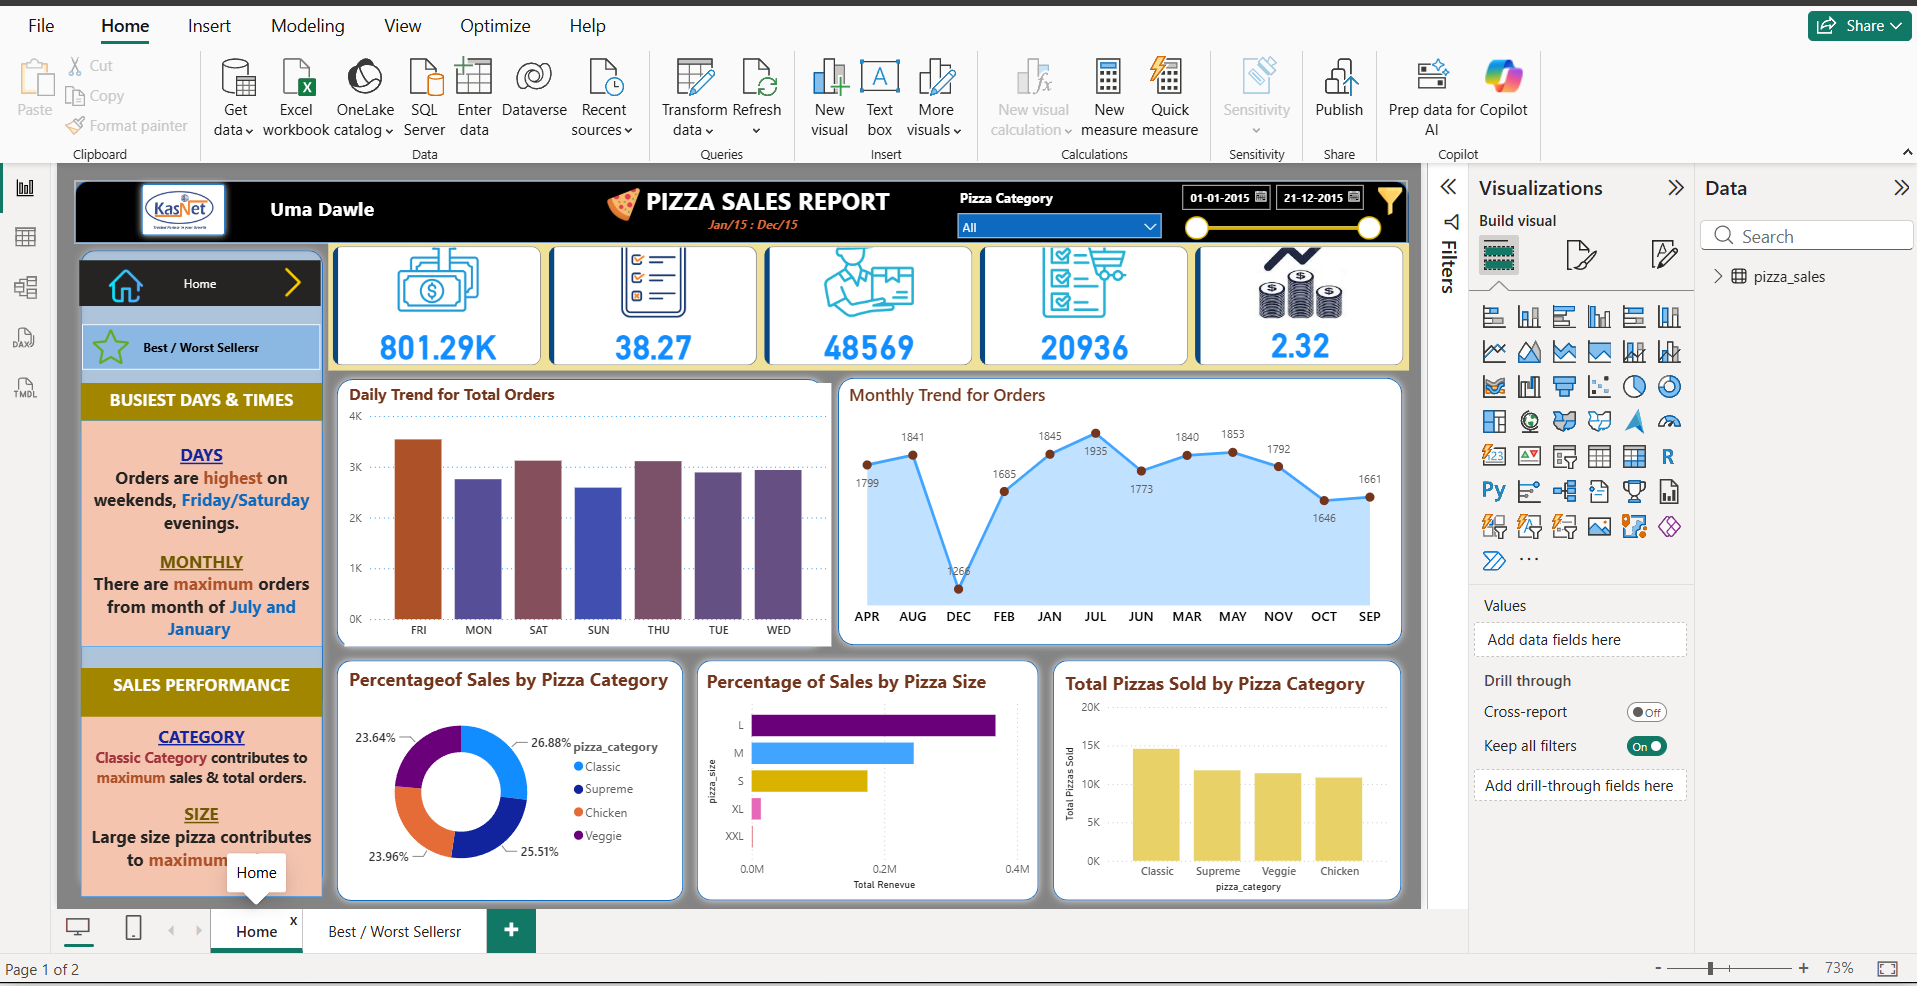

What the dashboard file says about the page in this screenshot:
{"tool":"powerbi","page":{"name":"Home","canvas":[1500,820],"ordinal":0},"visuals":[{"type":"shape","box":[299,228.9,551.9,310.1],"z":0},{"type":"cardVisual","fields":{"Data":["pizza_sales.Total Renevue","pizza_sales.Avg Order Vavle","pizza_sales.Total Pizzas Sold","pizza_sales.Total Orders","pizza_sales.Avg Pizzas Per Order"]},"box":[298.7,86.7,1187.6,142],"z":1000},{"type":"shape","box":[19,19,1466.8,68.8],"z":2000},{"type":"textbox","box":[580.9,18.4,400.2,49.8],"z":3000},{"type":"textbox","box":[710,53.5,271.1,51.6],"z":4000},{"type":"image","box":[574.4,21.4,97.3,47.5],"z":5000},{"type":"columnChart","title":"Daily Trend for Total Orders","fields":{"Category":["pizza_sales.Order Day"],"Y":["pizza_sales.Total Orders"]},"box":[315.6,241.8,535.3,289.8],"z":6000},{"type":"shape","box":[850.1,228.7,636.2,309.8],"z":7000},{"type":"areaChart","title":"Monthly Trend for Orders","fields":{"Category":["pizza_sales.Order Month"],"Y":["pizza_sales.Total Orders"]},"box":[866.3,242.1,602.8,277.7],"z":8000},{"type":"shape","box":[299,539,396.8,280.6],"z":9000},{"type":"shape","box":[695.4,538.8,391.6,280.1],"z":10000},{"type":"shape","box":[1087,538.8,398.7,280.1],"z":11000},{"type":"shape","box":[17.5,87.5,282.5,717.5],"z":12000},{"type":"donutChart","title":"Percentageof Sales by Pizza Category","fields":{"Category":["pizza_sales.pizza_category"],"Y":["pizza_sales.Total Renevue"]},"box":[315.6,553.7,365.5,249.2],"z":13000},{"type":"barChart","title":"Percentage of Sales by Pizza Size","fields":{"Category":["pizza_sales.pizza_size"],"Y":["pizza_sales.Total Renevue"]},"box":[708.8,555.6,365.5,249.2],"z":14000},{"type":"clusteredColumnChart","title":"Total Pizzas Sold by Pizza Category","fields":{"Category":["pizza_sales.pizza_category"],"Y":["pizza_sales.Total Pizzas Sold"]},"box":[1103.6,557.8,365.5,249.2],"z":15000},{"type":"textbox","box":[25.8,241.8,265.8,53.5],"z":16000},{"type":"textbox","box":[25.8,282.4,265.8,249.2],"z":17000},{"type":"textbox","box":[25.8,592.5,265.8,214.1],"z":18000},{"type":"textbox","box":[25.8,555.6,265.8,53.5],"z":19000},{"type":"slicer","fields":{"Values":["pizza_sales.pizza_category"]},"box":[980.2,23.7,244.5,59.3],"z":20000},{"type":"slicer","fields":{"Values":["pizza_sales.order_date"]},"box":[1224.7,14.2,244.5,109.2],"z":21000},{"type":"pageNavigator","box":[25,107.5,265,50],"z":22000},{"type":"pageNavigator","box":[27.5,177.5,262.5,50],"z":23000},{"type":"image","box":[230,110,60,42.5],"z":24000},{"type":"image","box":[52.5,110,47.5,50],"z":25000},{"type":"image","box":[35,172.5,50,57.5],"z":26000},{"type":"image","box":[1445,22.5,40,40],"z":27000},{"type":"shape","box":[85,15,107.5,72.5],"z":28000},{"type":"image","box":[92.5,17.5,85,67.5],"z":29000},{"type":"textbox","box":[230.1,30.8,231.9,52.5],"z":30000}]}

Visuals, with their boxes on the page's 1500x820 design canvas (x1, y1, x2, y2). These are canvas units, not pixel positions in the 1917x986 screenshot, which may show the page scaled, cropped or inside an application window:
shape: pyautogui.locateOnScreen(299, 229, 851, 539)
cardVisual - pizza_sales.Total Renevue x pizza_sales.Avg Order Vavle: pyautogui.locateOnScreen(299, 87, 1486, 229)
shape: pyautogui.locateOnScreen(19, 19, 1486, 88)
textbox: pyautogui.locateOnScreen(581, 18, 981, 68)
textbox: pyautogui.locateOnScreen(710, 54, 981, 105)
image: pyautogui.locateOnScreen(574, 21, 672, 69)
"Daily Trend for Total Orders" columnChart: pyautogui.locateOnScreen(316, 242, 851, 532)
shape: pyautogui.locateOnScreen(850, 229, 1486, 538)
"Monthly Trend for Orders" areaChart: pyautogui.locateOnScreen(866, 242, 1469, 520)
shape: pyautogui.locateOnScreen(299, 539, 696, 820)
shape: pyautogui.locateOnScreen(695, 539, 1087, 819)
shape: pyautogui.locateOnScreen(1087, 539, 1486, 819)
shape: pyautogui.locateOnScreen(18, 88, 300, 805)
"Percentageof Sales by Pizza Category" donutChart: pyautogui.locateOnScreen(316, 554, 681, 803)
"Percentage of Sales by Pizza Size" barChart: pyautogui.locateOnScreen(709, 556, 1074, 805)
"Total Pizzas Sold by Pizza Category" clusteredColumnChart: pyautogui.locateOnScreen(1104, 558, 1469, 807)
textbox: pyautogui.locateOnScreen(26, 242, 292, 295)
textbox: pyautogui.locateOnScreen(26, 282, 292, 532)
textbox: pyautogui.locateOnScreen(26, 592, 292, 807)
textbox: pyautogui.locateOnScreen(26, 556, 292, 609)
slicer - pizza_sales.pizza_category: pyautogui.locateOnScreen(980, 24, 1225, 83)
slicer - pizza_sales.order_date: pyautogui.locateOnScreen(1225, 14, 1469, 123)
pageNavigator: pyautogui.locateOnScreen(25, 108, 290, 158)
pageNavigator: pyautogui.locateOnScreen(28, 178, 290, 228)
image: pyautogui.locateOnScreen(230, 110, 290, 152)
image: pyautogui.locateOnScreen(52, 110, 100, 160)
image: pyautogui.locateOnScreen(35, 172, 85, 230)
image: pyautogui.locateOnScreen(1445, 22, 1485, 62)
shape: pyautogui.locateOnScreen(85, 15, 192, 88)
image: pyautogui.locateOnScreen(92, 18, 178, 85)
textbox: pyautogui.locateOnScreen(230, 31, 462, 83)
